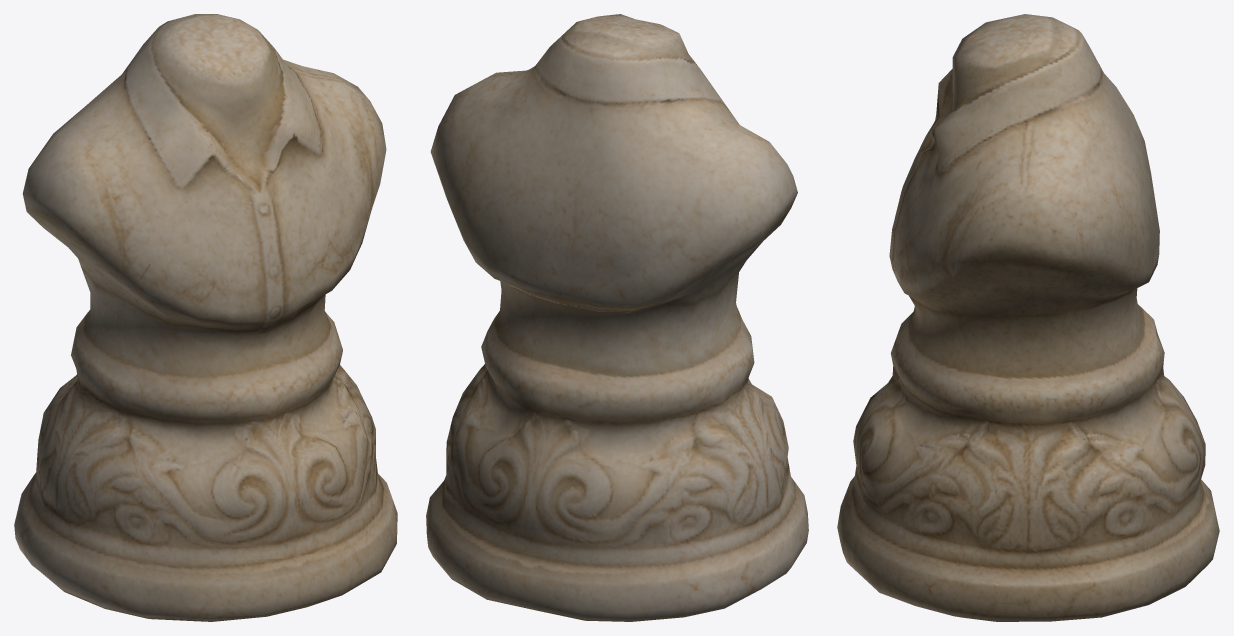
Rendered from NPC_Body_04.fbx.
3 renders of one model, left to right at view 1: azimuth 30°, elevation 25°; view 2: azimuth 150°, elevation 25°; view 3: azimuth 270°, elevation 25°, orthographic.
Parts seen in each view (by area): view 1: NPC_Body_04; view 2: NPC_Body_04; view 3: NPC_Body_04.
Boxes of the visible parts, box(x1,y1,x2,y2) form: NPC_Body_04: box(14, 14, 397, 621); NPC_Body_04: box(426, 14, 808, 621); NPC_Body_04: box(837, 14, 1219, 621).
Bounding box in the file's own units: 66.01 × 98.27 × 65.03.
